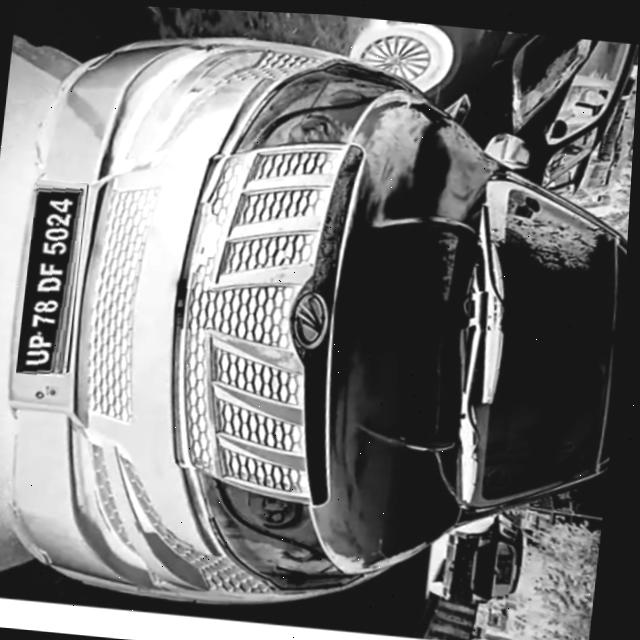Non_registered: (19, 179, 88, 377)
